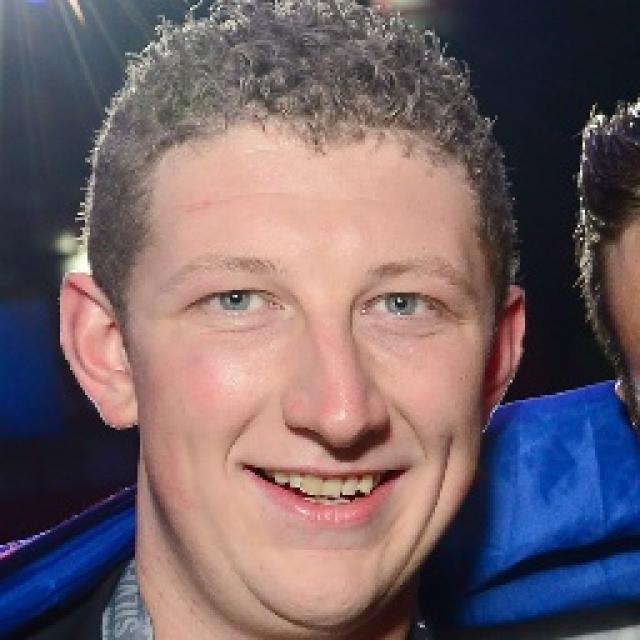earlobe: (60, 272, 137, 432), (478, 284, 526, 434)
